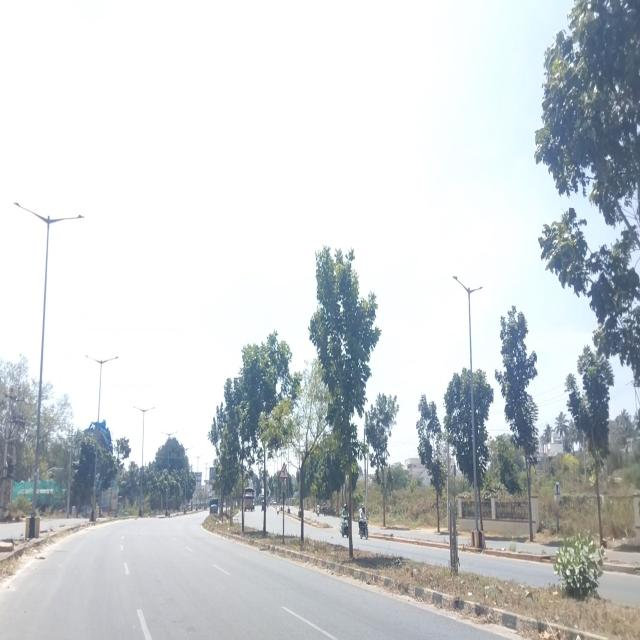bien_cam: (279, 461, 289, 479)
